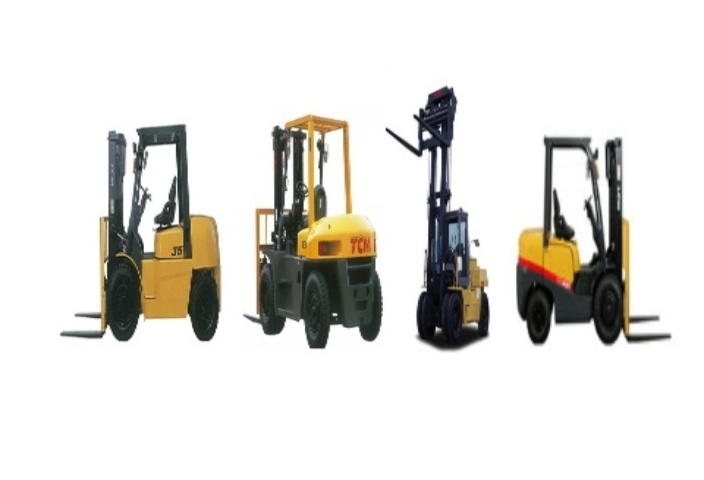industrial: (500, 101, 686, 369), (56, 110, 226, 365), (377, 78, 516, 370), (239, 111, 391, 356)
